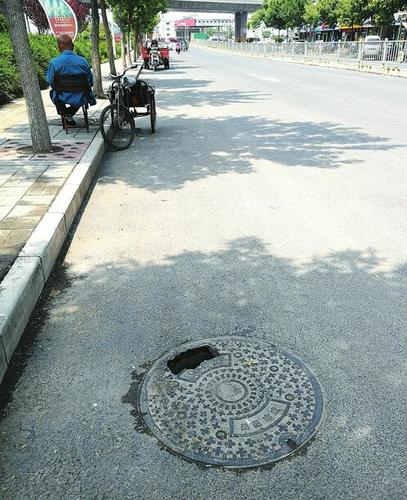good: (119, 320, 351, 470)
